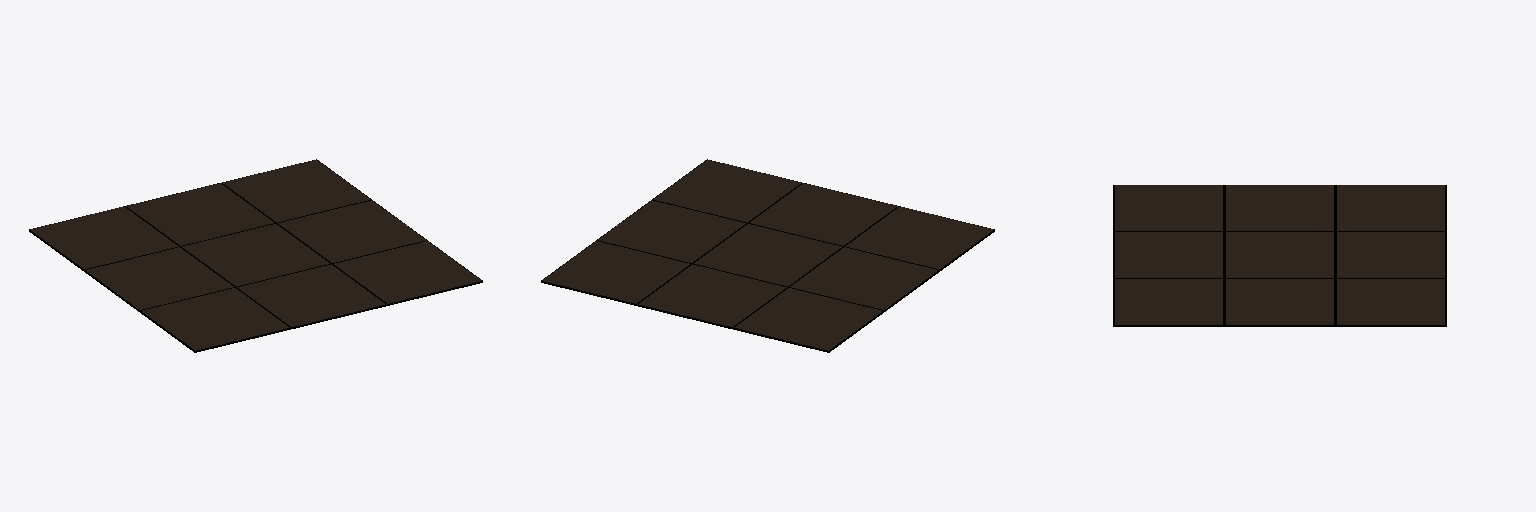
Rendered from ceilingBlend6x6.obj.
The picture shows the model from 3 angles: view 1: azimuth 30°, elevation 25°; view 2: azimuth 150°, elevation 25°; view 3: azimuth 270°, elevation 25°; orthographic projection.
Visible parts, largest first — view 1: Tile.003_Cube.024, Tile.003_Cube.002, Tile.003_Cube.004, Tile.003_Cube.005, Tile.003_Cube.006, Tile.003_Cube.001, Tile.003_Cube.007, Tile.003_Cube.003, Tile.003_Cube.008, Cube.001_Cube.025; view 2: Tile.003_Cube.024, Tile.003_Cube.002, Tile.003_Cube.003, Tile.003_Cube.004, Tile.003_Cube.008, Tile.003_Cube.001, Tile.003_Cube.007, Tile.003_Cube.005, Tile.003_Cube.006, Cube.001_Cube.025; view 3: Tile.003_Cube.024, Tile.003_Cube.001, Tile.003_Cube.002, Tile.003_Cube.003, Tile.003_Cube.004, Tile.003_Cube.005, Tile.003_Cube.006, Tile.003_Cube.007, Tile.003_Cube.008, Cube.001_Cube.025.
Part boxes in pixels (left/top/right/bottom): Tile.003_Cube.024: left=182, top=224, right=329, bottom=286; Tile.003_Cube.002: left=126, top=183, right=273, bottom=245; Tile.003_Cube.004: left=237, top=264, right=385, bottom=326; Tile.003_Cube.005: left=334, top=241, right=481, bottom=303; Tile.003_Cube.006: left=30, top=207, right=178, bottom=269; Tile.003_Cube.001: left=278, top=200, right=425, bottom=262; Tile.003_Cube.007: left=86, top=247, right=233, bottom=309; Tile.003_Cube.003: left=223, top=160, right=370, bottom=222; Tile.003_Cube.008: left=142, top=288, right=289, bottom=350; Cube.001_Cube.025: left=29, top=159, right=482, bottom=352; Tile.003_Cube.024: left=694, top=224, right=841, bottom=286; Tile.003_Cube.002: left=638, top=264, right=786, bottom=326; Tile.003_Cube.003: left=542, top=241, right=689, bottom=303; Tile.003_Cube.004: left=750, top=183, right=897, bottom=245; Tile.003_Cube.008: left=845, top=207, right=993, bottom=269; Tile.003_Cube.001: left=598, top=200, right=745, bottom=262; Tile.003_Cube.007: left=790, top=247, right=937, bottom=309; Tile.003_Cube.005: left=653, top=160, right=800, bottom=222; Tile.003_Cube.006: left=734, top=288, right=881, bottom=350; Cube.001_Cube.025: left=541, top=159, right=994, bottom=352; Tile.003_Cube.024: left=1226, top=232, right=1333, bottom=277; Tile.003_Cube.001: left=1226, top=279, right=1333, bottom=324; Tile.003_Cube.002: left=1337, top=232, right=1444, bottom=277; Tile.003_Cube.003: left=1337, top=279, right=1444, bottom=324; Tile.003_Cube.004: left=1115, top=232, right=1222, bottom=277; Tile.003_Cube.005: left=1115, top=279, right=1222, bottom=324; Tile.003_Cube.006: left=1337, top=185, right=1444, bottom=230; Tile.003_Cube.007: left=1226, top=185, right=1333, bottom=230; Tile.003_Cube.008: left=1115, top=185, right=1222, bottom=230; Cube.001_Cube.025: left=1113, top=185, right=1446, bottom=326.
Size of the model in its own units: 12 by 0.07 by 12.